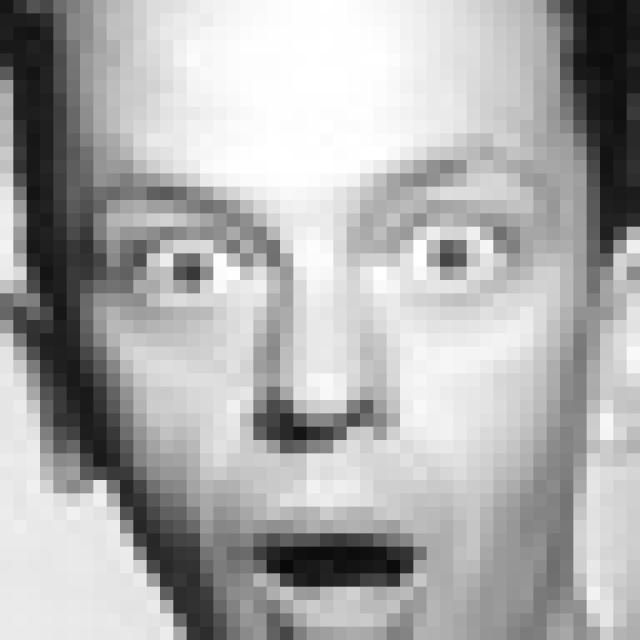surprise: (68, 139, 559, 640)
